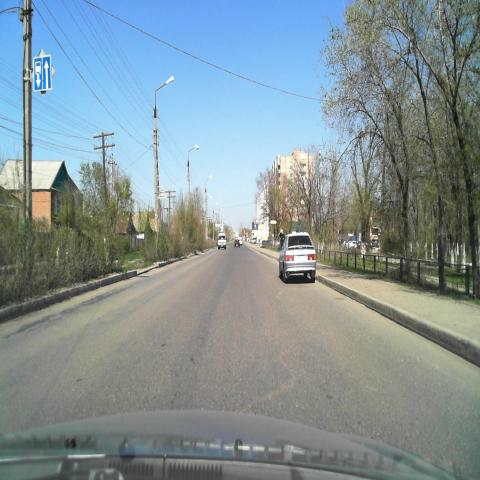5_11: (33, 55, 52, 90)
